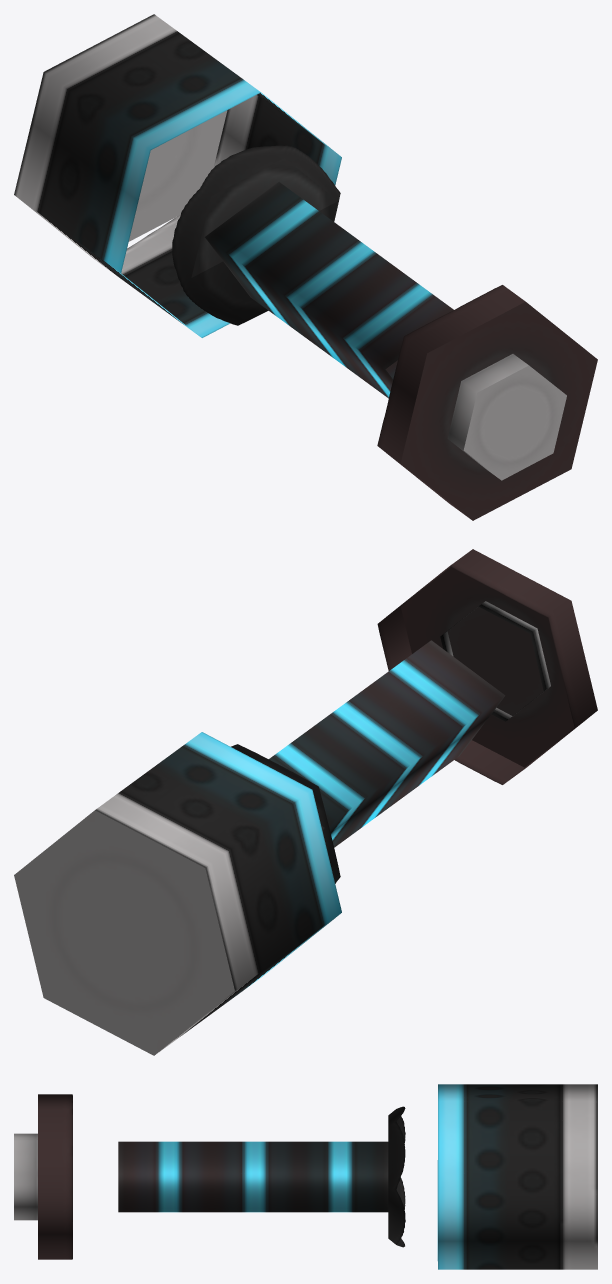
Rendered from obj_interactive_suspensionoffroad_05_off_lod1.fbx.
3 renders of one model, top to bottom at view 1: azimuth 30°, elevation 25°; view 2: azimuth 150°, elevation 25°; view 3: azimuth 270°, elevation 25°, orthographic. The views are drawn at different scales.
Parts seen in each view (by area): view 1: obj_interactive_suspensionoffroad_05_off_lod2; view 2: obj_interactive_suspensionoffroad_05_off_lod2; view 3: obj_interactive_suspensionoffroad_05_off_lod2.
Part boxes in pixels (box(x1,y1,x2,y2)): obj_interactive_suspensionoffroad_05_off_lod2: box(14, 14, 597, 520); obj_interactive_suspensionoffroad_05_off_lod2: box(14, 549, 597, 1055); obj_interactive_suspensionoffroad_05_off_lod2: box(14, 1084, 597, 1269).
Bounding box in the file's own units: 1.02 × 1.02 × 3.13.
1 material, 1 textured.
